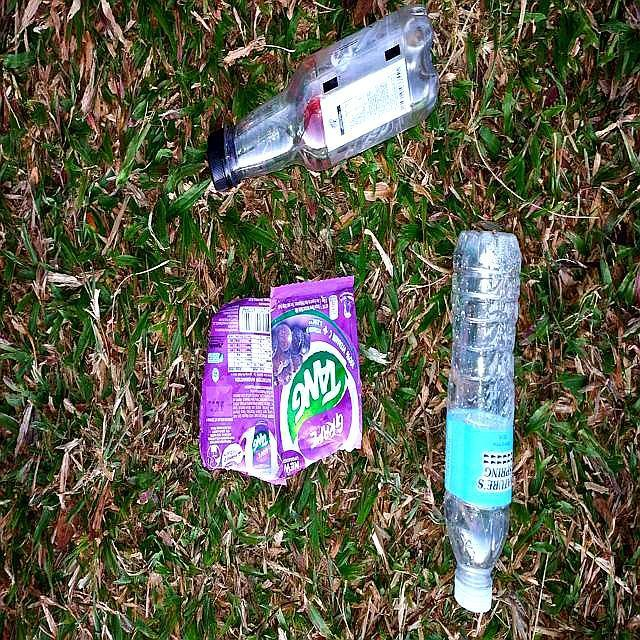Non-biodegradable: (208, 9, 441, 194), (201, 275, 367, 495), (447, 225, 521, 621)
